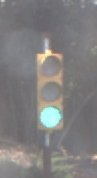Green: (29, 43, 67, 148)
